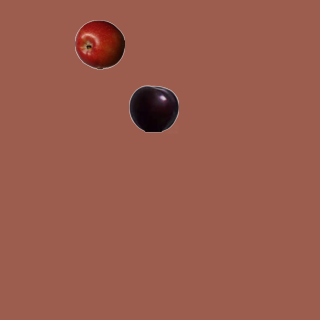Apple Braeburn: (74, 19, 124, 69)
Cherry Wax Black: (128, 83, 178, 133)
